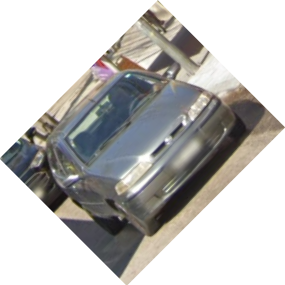car: (45, 67, 247, 238)
